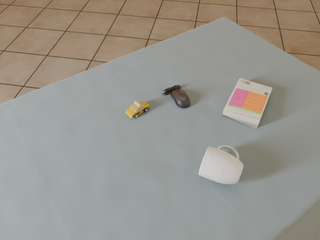book: (223, 78, 272, 128)
cup: (199, 145, 243, 184)
mouse: (162, 85, 190, 108)
toy_car: (126, 101, 150, 119)
